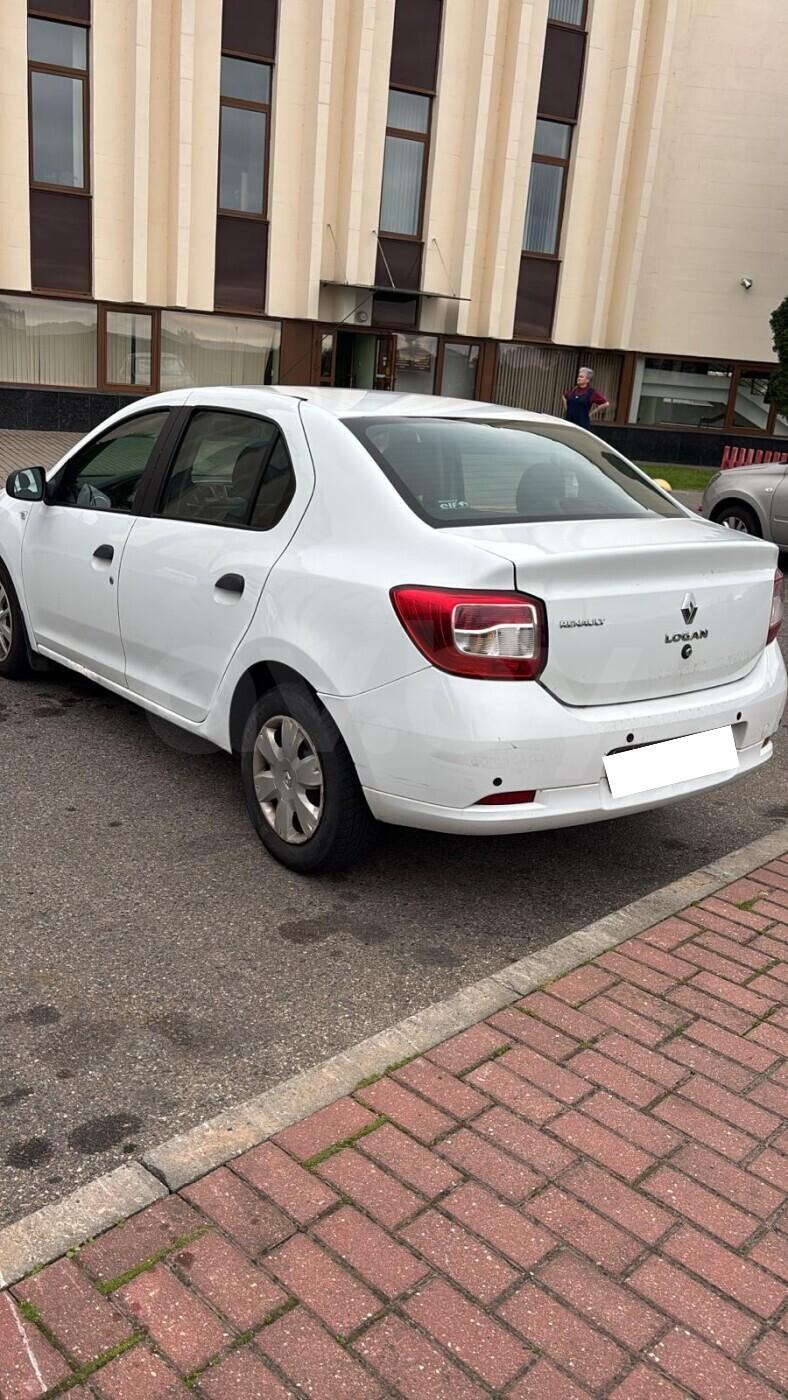Logan_2018: (0, 366, 788, 876)
